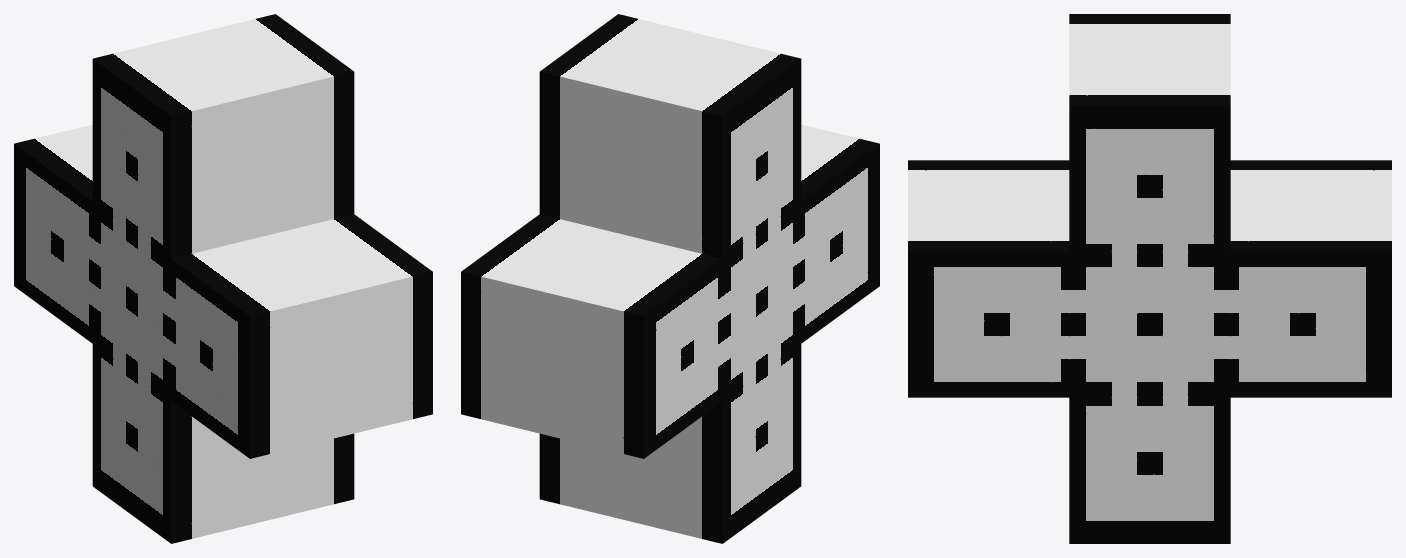
File: cross.gltf
3 renders of one model, left to right at view 1: azimuth 30°, elevation 25°; view 2: azimuth 150°, elevation 25°; view 3: azimuth 270°, elevation 25°, orthographic. The views are drawn at different scales.
Parts seen in each view (by area): view 1: cuboid; view 2: cuboid; view 3: cuboid.
Boxes of the visible parts, x1,y1,x2,y2 form: cuboid: [14, 14, 432, 543]; cuboid: [461, 14, 879, 543]; cuboid: [908, 14, 1391, 543].
Size of the model in its own units: 0.5313 by 1.19 by 1.19.
Materials: 1 (1 with a texture image).
